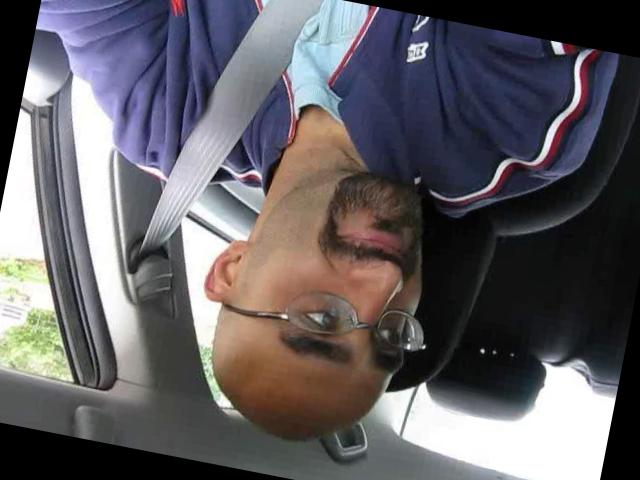eye_open: (295, 297, 355, 340), (367, 318, 404, 349)
face: (213, 142, 437, 380)
